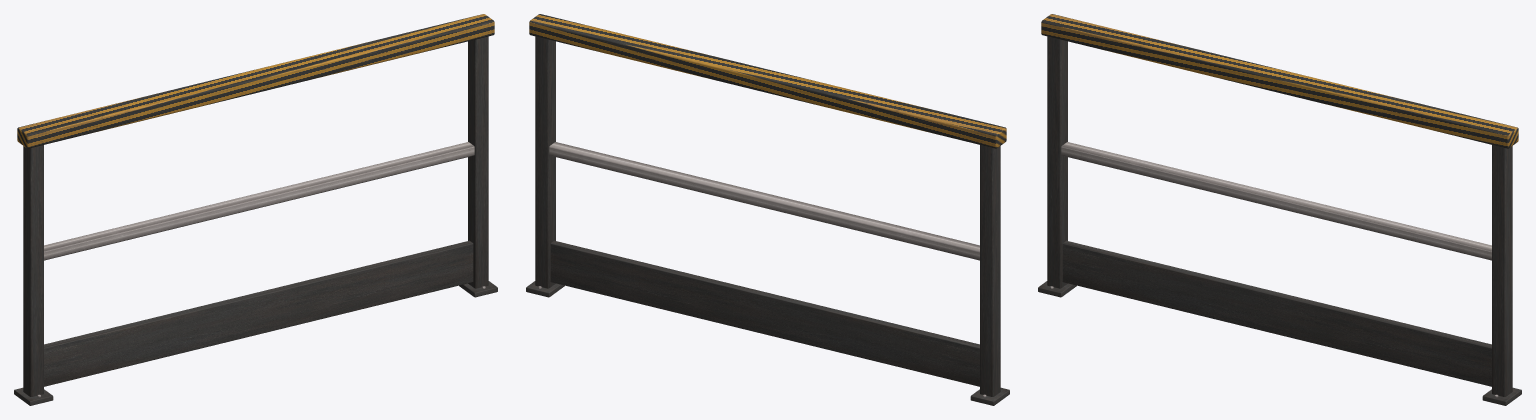
Rendered from SM_FacilityRooms_Guardrail200.fbx.
3 views of the same model, side by side, from view 1: azimuth 30°, elevation 25°; view 2: azimuth 150°, elevation 25°; view 3: azimuth 330°, elevation 25° (orthographic).
Parts seen in each view (by area): view 1: SM_FacilityRooms_Guardrail200; view 2: SM_FacilityRooms_Guardrail200; view 3: SM_FacilityRooms_Guardrail200.
Boxes of the visible parts, left/top/right/bottom form: SM_FacilityRooms_Guardrail200: left=14, top=14, right=497, bottom=405; SM_FacilityRooms_Guardrail200: left=526, top=14, right=1009, bottom=405; SM_FacilityRooms_Guardrail200: left=1038, top=14, right=1521, bottom=405.
Size of what is drawn, in the model's own units: 200 by 12 by 110.
